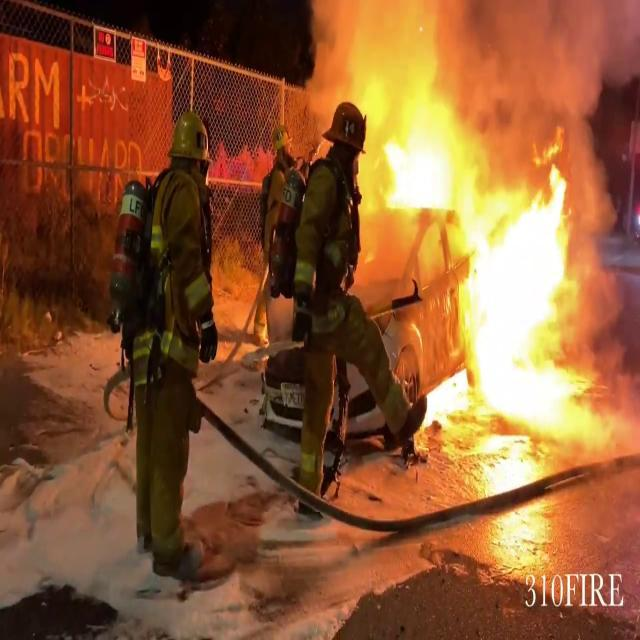Fire: (446, 172, 599, 407), (376, 118, 460, 216)
Smoke: (308, 0, 640, 140)
